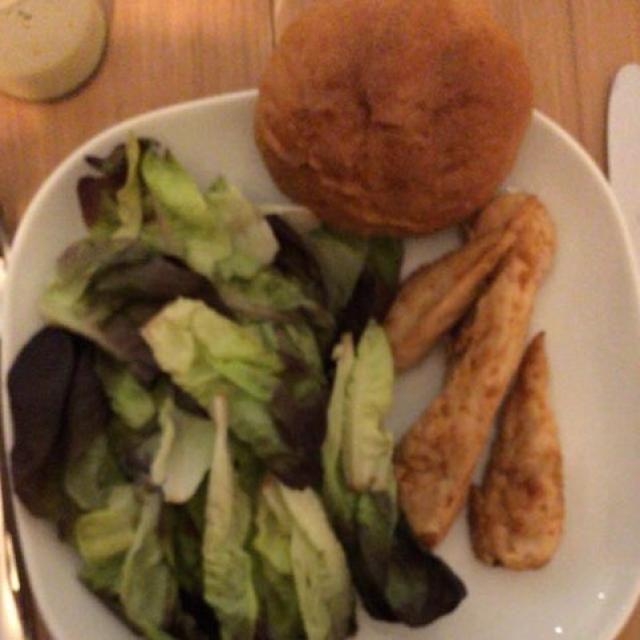bread: (249, 11, 535, 242)
chicken: (374, 192, 599, 574)
salad: (18, 133, 457, 638)
